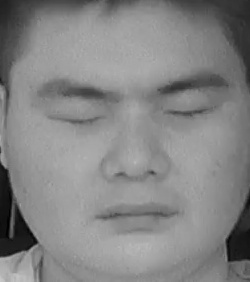blink: (50, 97, 103, 135), (165, 93, 218, 128)
mouth: (90, 193, 177, 239)
